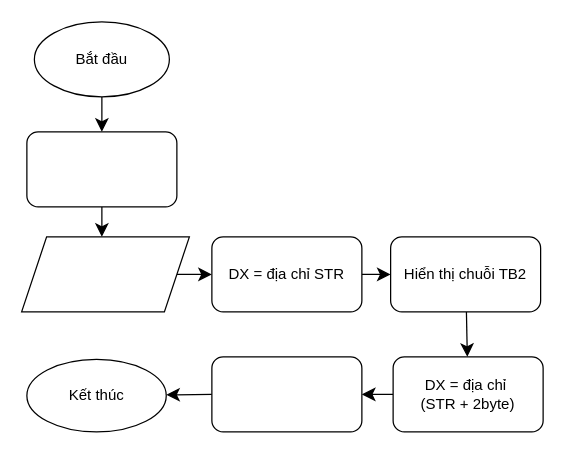
This 566x454 diagram has some shape labels left out. Each missing label, with the box of its shape:
Hiển thị chuỗi TB1: (26, 131, 177, 207)
In ra xâu vừa nhập: (211, 356, 362, 432)
Nhập xâu STR: (20, 236, 189, 312)
